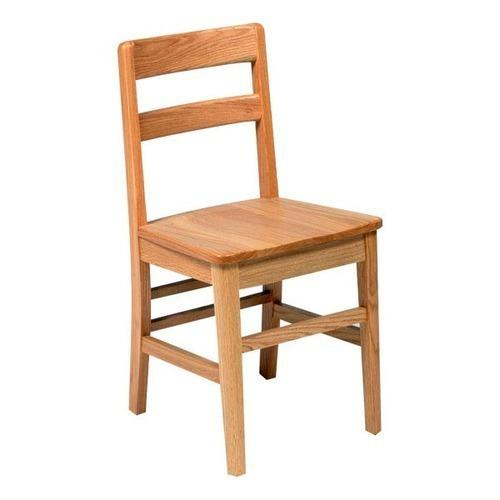chair: (98, 14, 414, 484)
